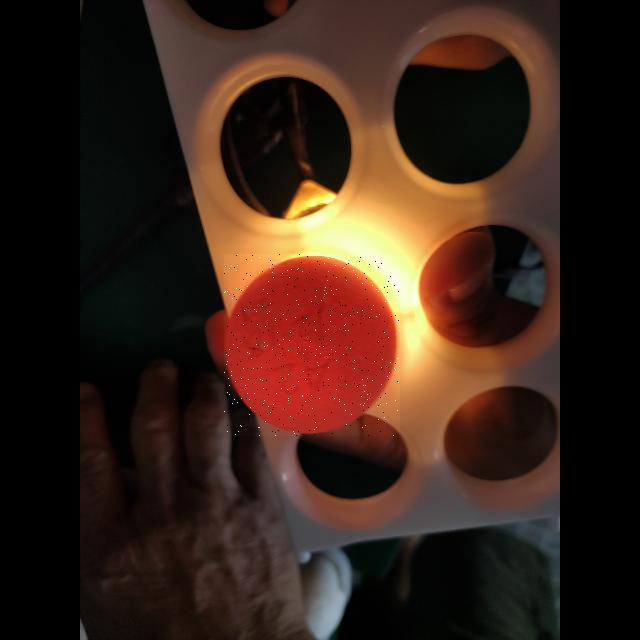A - Good: (224, 254, 400, 436)
